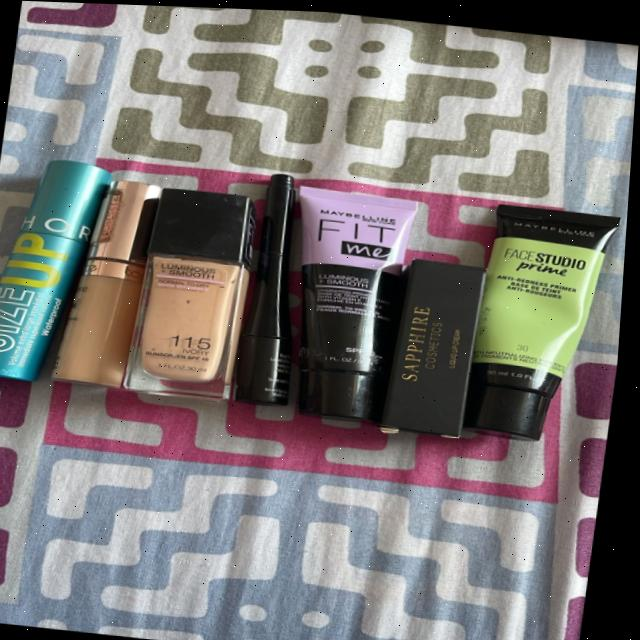concealer: (47, 162, 172, 407)
foundation: (128, 167, 272, 407)
lip stick: (0, 132, 123, 392)
mascara: (230, 162, 321, 416)
primer: (448, 188, 631, 451), (270, 173, 440, 433), (377, 245, 499, 446)
